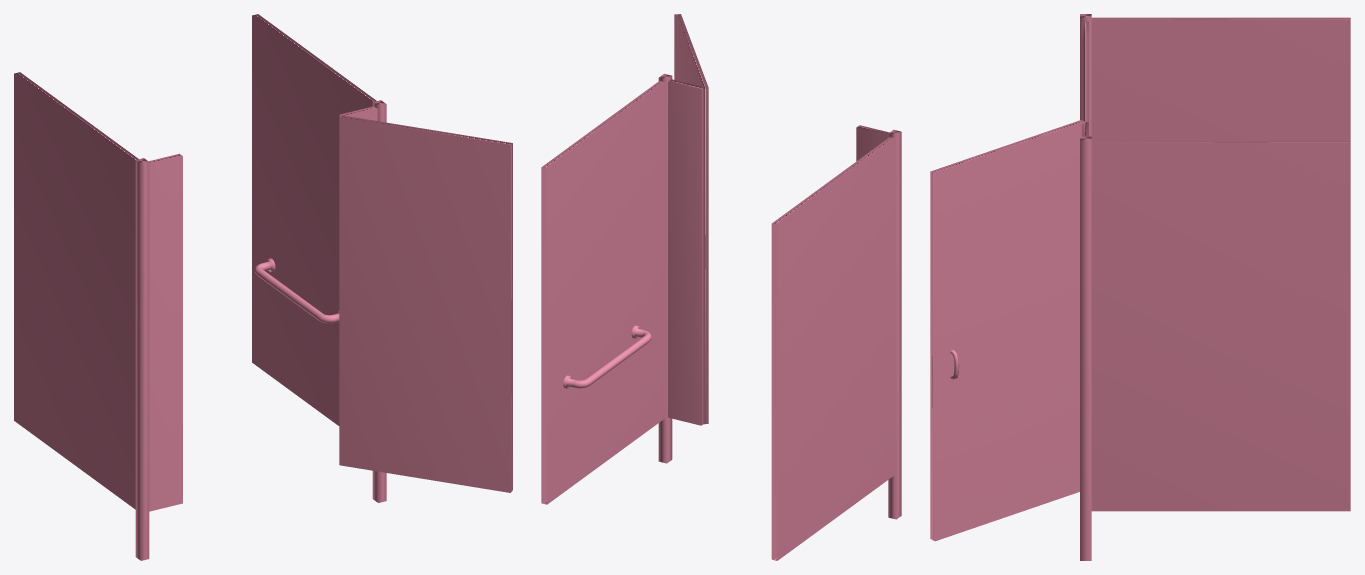
File: SM_Bathroom_Stall_OPEN.fbx
3 views of the same model, side by side, from view 1: azimuth 30°, elevation 25°; view 2: azimuth 150°, elevation 25°; view 3: azimuth 270°, elevation 25° (orthographic). The views are drawn at different scales.
Visible parts, largest first — view 1: PM3D_Cylinder3D1_5; view 2: PM3D_Cylinder3D1_5; view 3: PM3D_Cylinder3D1_5.
Part boxes in pixels (x1,y1,x2,y2): PM3D_Cylinder3D1_5: (14,14,512,560); PM3D_Cylinder3D1_5: (541,14,901,560); PM3D_Cylinder3D1_5: (930,14,1350,560).
Bounding box in the file's own units: 194 × 243 × 220.
